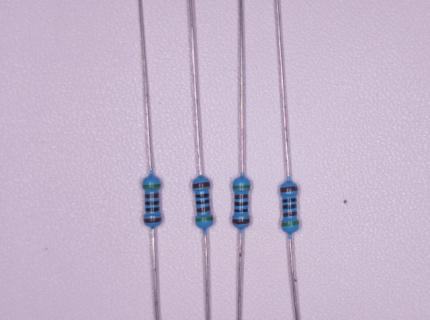Black band: (283, 204, 296, 210), (282, 198, 296, 203), (196, 200, 209, 205), (145, 208, 160, 212), (234, 209, 248, 213), (195, 194, 209, 198), (235, 202, 248, 206), (146, 201, 159, 205)
Brown band: (192, 182, 210, 188), (280, 186, 297, 192), (144, 218, 161, 223), (233, 219, 249, 224), (197, 206, 210, 212), (145, 193, 159, 198), (283, 212, 297, 217), (235, 195, 247, 199)
Green band: (143, 184, 161, 189), (282, 221, 299, 226), (196, 217, 213, 221), (234, 185, 249, 189)
